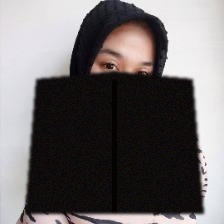Cadar_Niqab: (25, 0, 203, 213)
